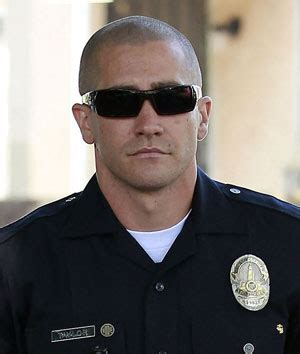sem_capacete: (68, 14, 214, 200)
